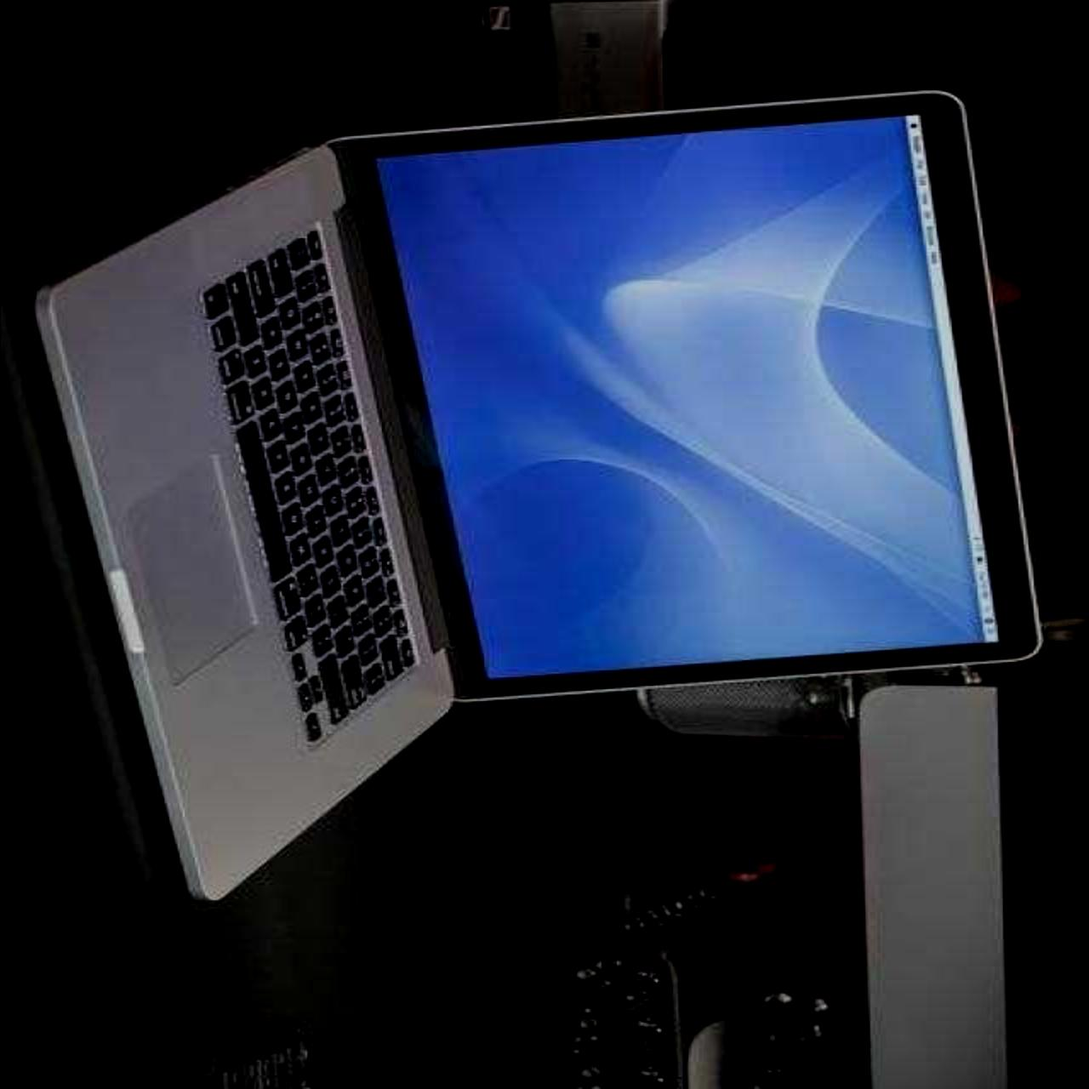laptop: (19, 79, 1070, 945)
